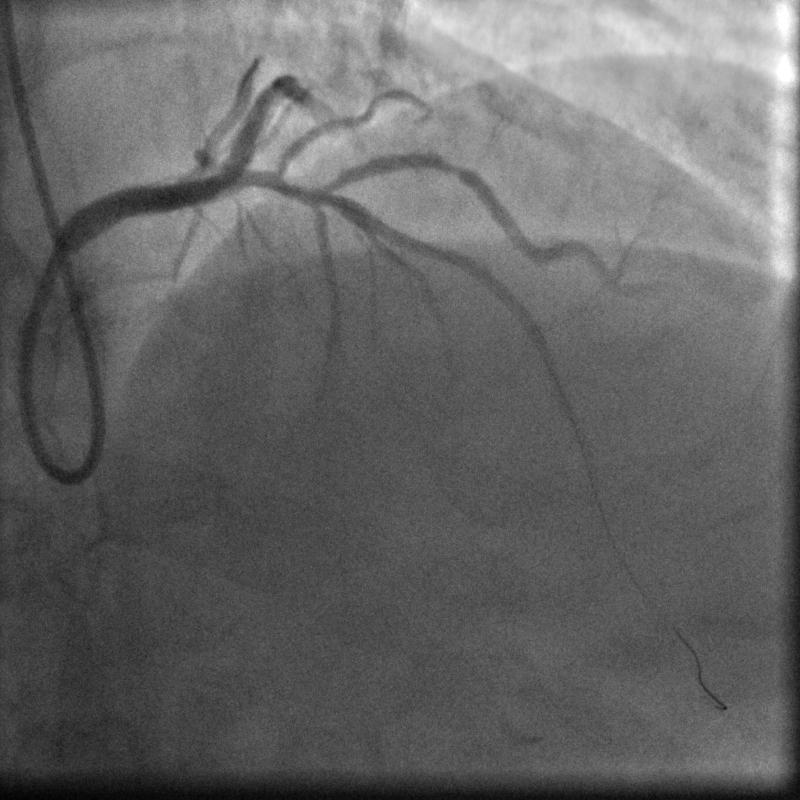Stenosis: (426, 149, 472, 186)
